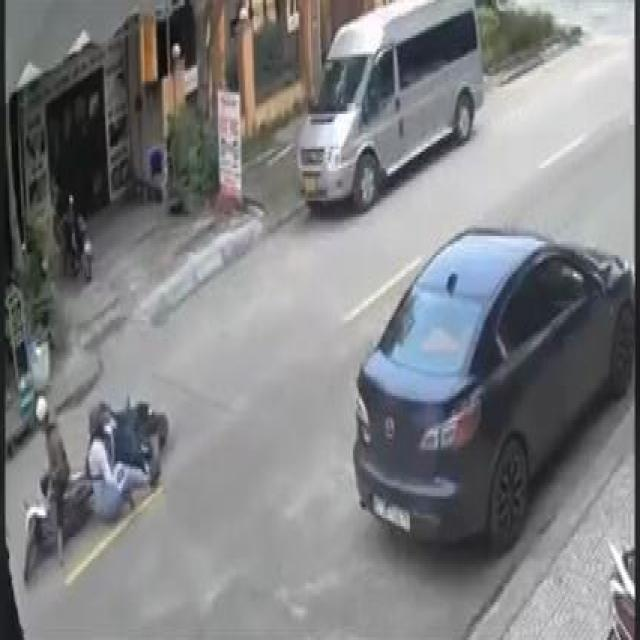accident: (20, 344, 172, 600)
